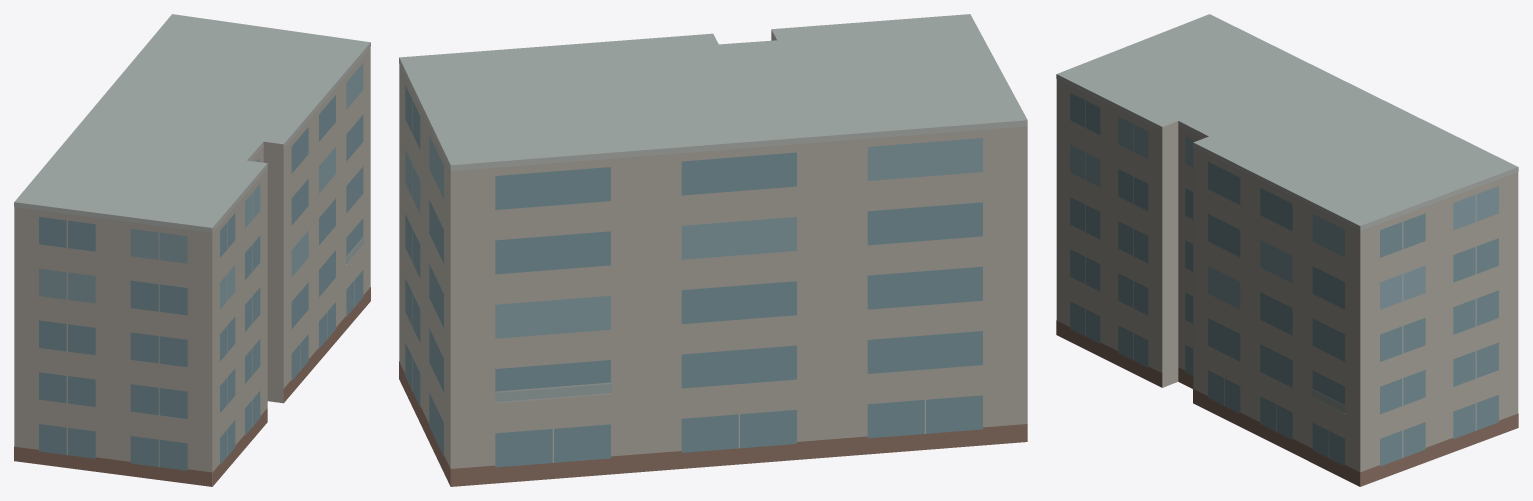
File: survey-upis-32634192.glb
3 renders of one model, left to right at view 1: azimuth 30°, elevation 25°; view 2: azimuth 150°, elevation 25°; view 3: azimuth 270°, elevation 25°, orthographic. The views are drawn at different scales.
Visible parts, largest first — view 1: survey-upis-32634192.tmp; view 2: survey-upis-32634192.tmp; view 3: survey-upis-32634192.tmp.
Boxes of the visible parts, x1,y1,x2,y2 form: survey-upis-32634192.tmp: (14, 14, 370, 486); survey-upis-32634192.tmp: (399, 14, 1027, 486); survey-upis-32634192.tmp: (1056, 14, 1518, 486).
Size of the model in its own units: 22.84 by 13.1 by 21.04.
